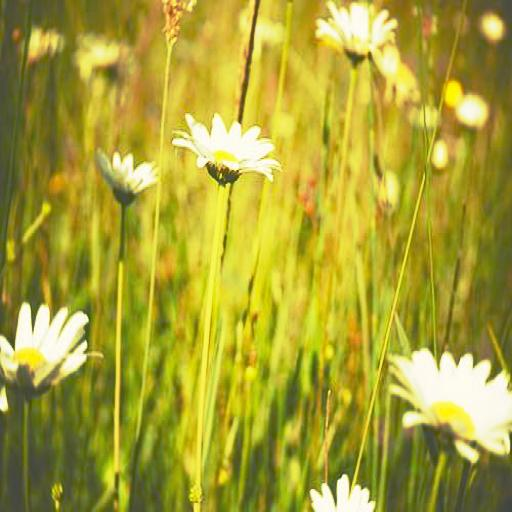daisy: (386, 349, 512, 460), (1, 297, 101, 410), (178, 114, 278, 182), (316, 1, 398, 60), (98, 142, 158, 198), (306, 478, 375, 512)
